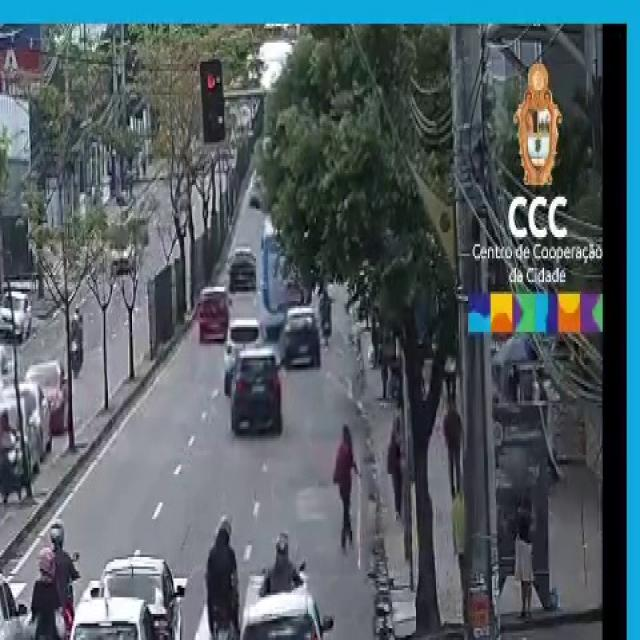biker: (26, 535, 69, 640), (203, 509, 237, 640), (0, 403, 27, 507), (66, 300, 88, 378)
car: (223, 349, 283, 438), (234, 597, 338, 640), (276, 301, 326, 380), (0, 267, 33, 353), (199, 278, 234, 346), (0, 564, 23, 640), (5, 635, 146, 640)
people: (328, 422, 362, 558)
